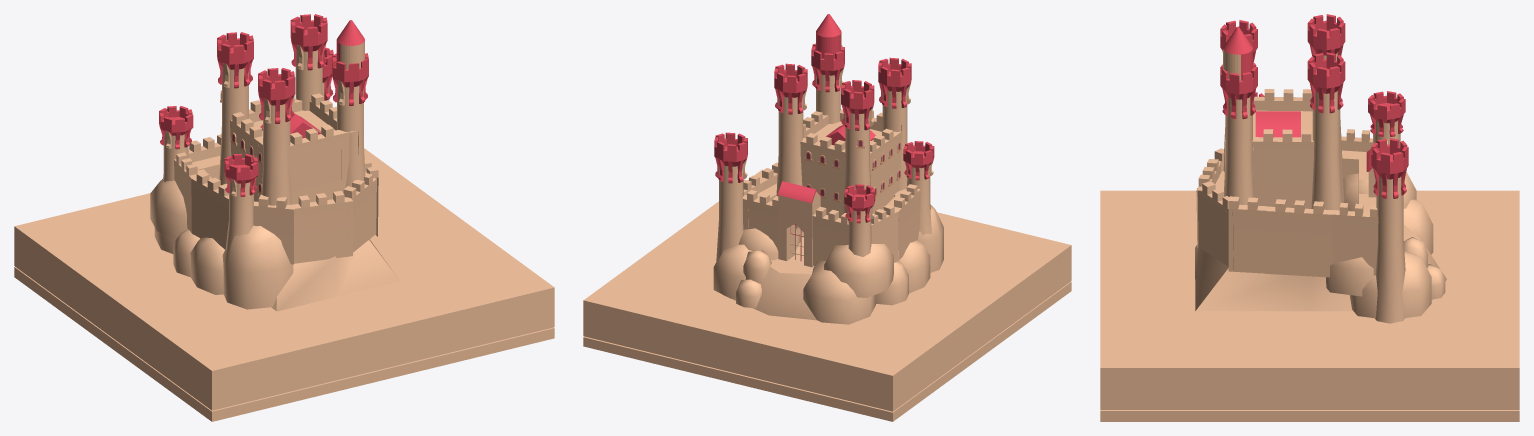
Rendered from castle normal.fbx.
The picture shows the model from 3 angles, left to right: view 1: azimuth 30°, elevation 25°; view 2: azimuth 150°, elevation 25°; view 3: azimuth 270°, elevation 25°; orthographic projection. The views are drawn at different scales.
Parts seen in each view (by area): view 1: Cylinder005, Cylinder; view 2: Cylinder005, Cylinder; view 3: Cylinder005, Cylinder.
Part boxes in pixels (x1,y1,x2,y2): Cylinder005: (14,14,554,421); Cylinder: (336,20,364,69); Cylinder005: (583,43,1071,421); Cylinder: (816,14,841,58); Cylinder005: (1100,14,1519,421); Cylinder: (1223,27,1252,80).
Size of the model in its own units: 70 by 59.37 by 70.03.
